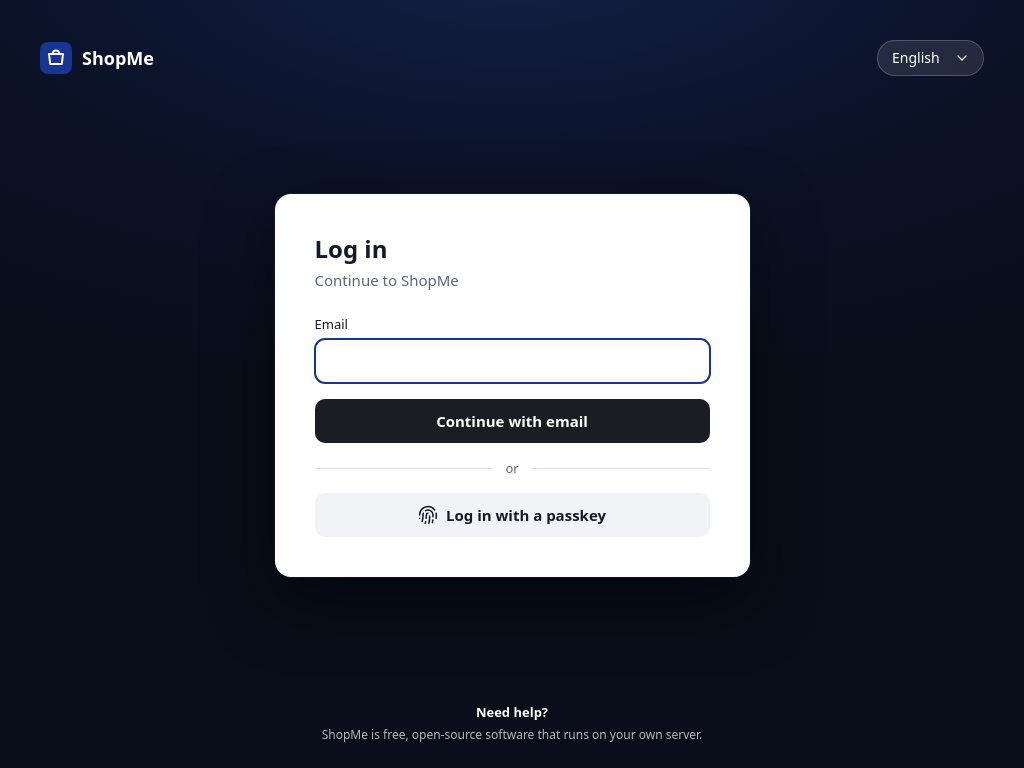
Test: login, e-mail first › asks for the e-mail alone, then the password with the e-mail shown and a way to change it
Check: the heading "Log in" is shown, box [314, 232, 387, 265]
Check: the text "Continue to ShopMe" is shown, box [314, 270, 459, 290]
Type "ada@example.com" into the field labelled "Email" at (512, 361), box [314, 339, 710, 383]
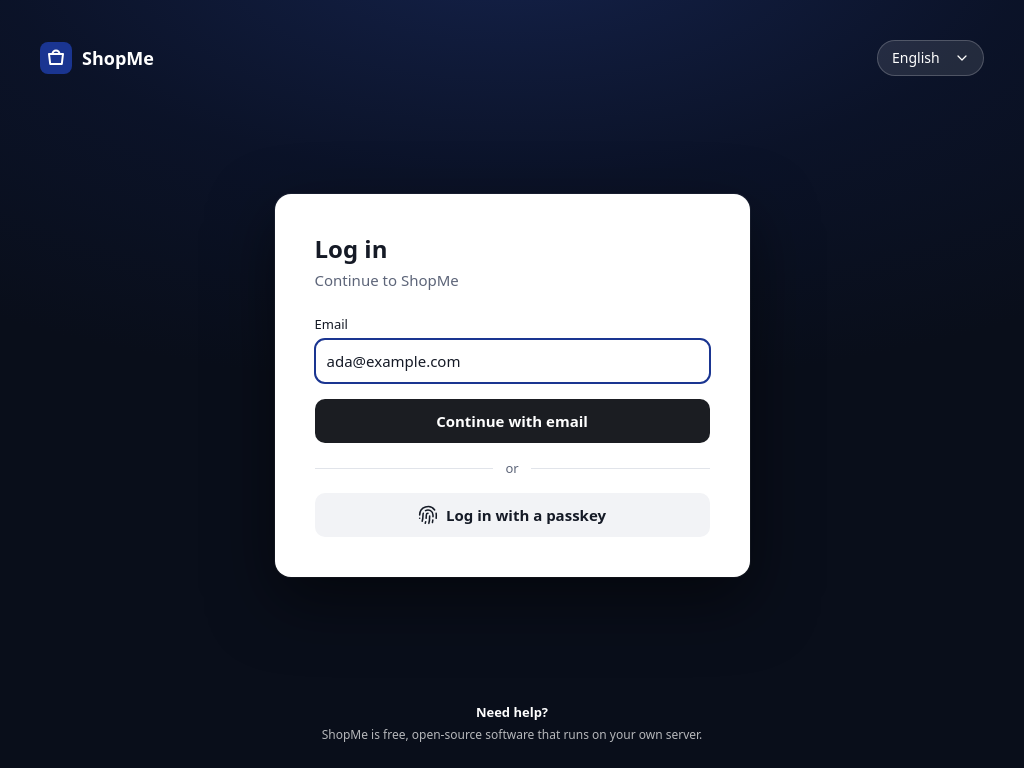
Click the button "Continue with email" at (512, 421), box [314, 399, 710, 443]
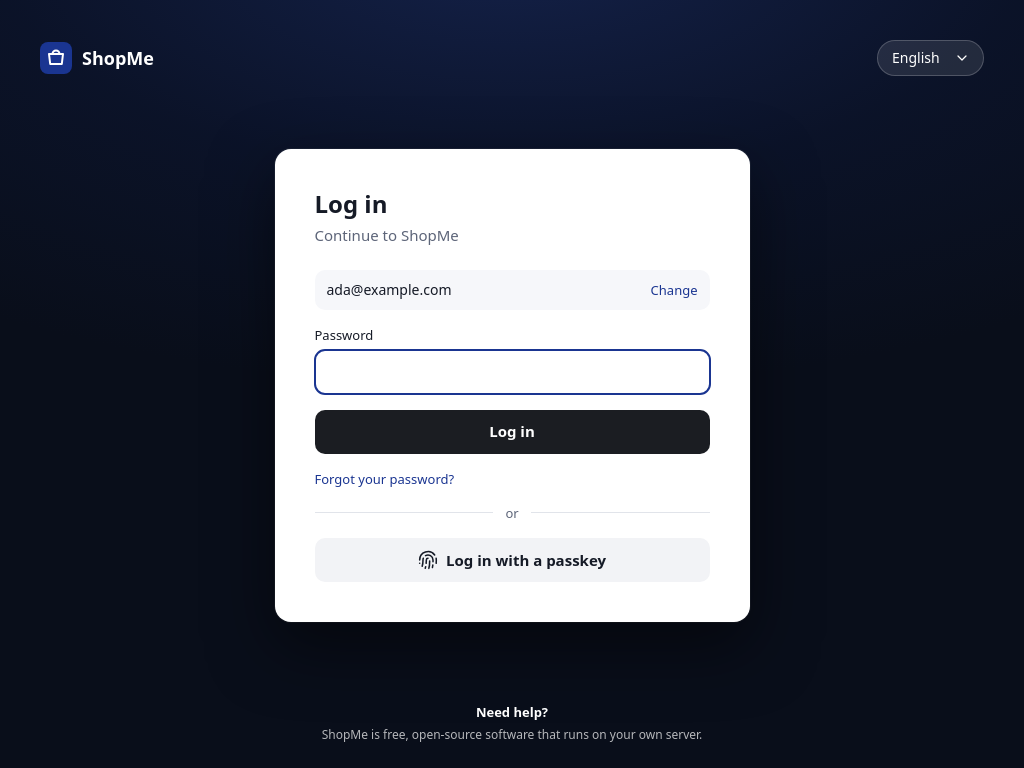
Check: the text with test id "login-email" reads "ada@example.com", box [326, 280, 452, 299]
Check: the password field labelled "Password" is shown, box [314, 350, 710, 394]
Check: the button "Forgot your password?" is shown, box [314, 470, 454, 488]
Click the button "Change" at (674, 290), box [651, 281, 698, 299]
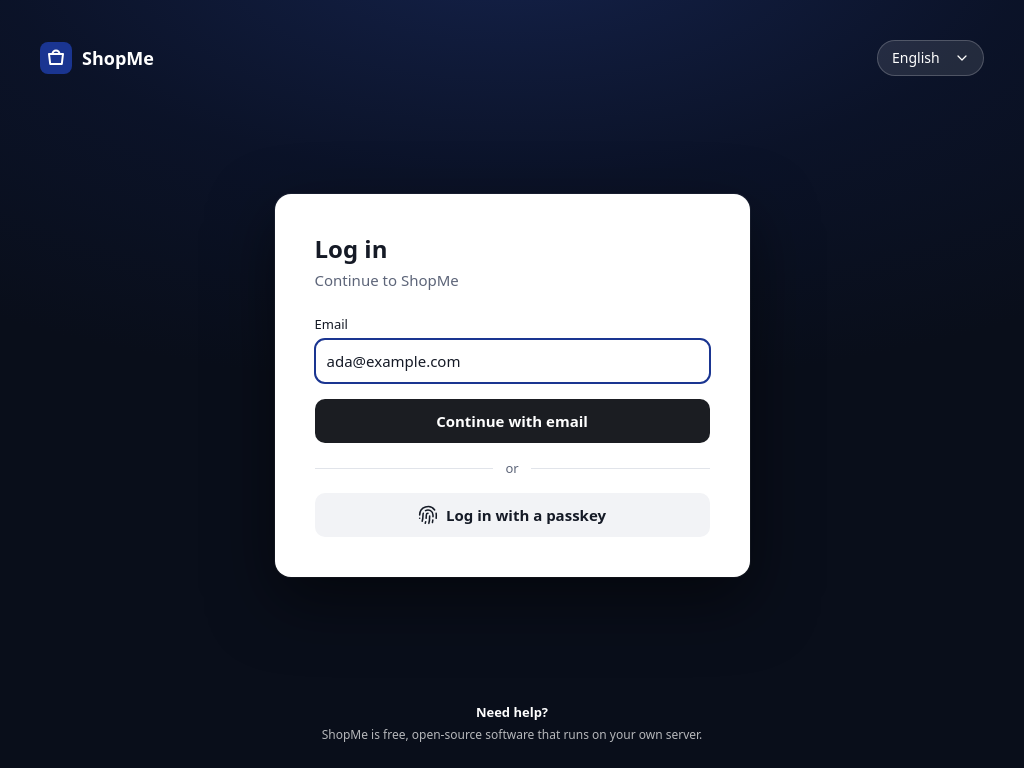
Check: the field labelled "Email" holds "ada@example.com", box [314, 339, 710, 383]
Check: the label labelled "Password" is gone
